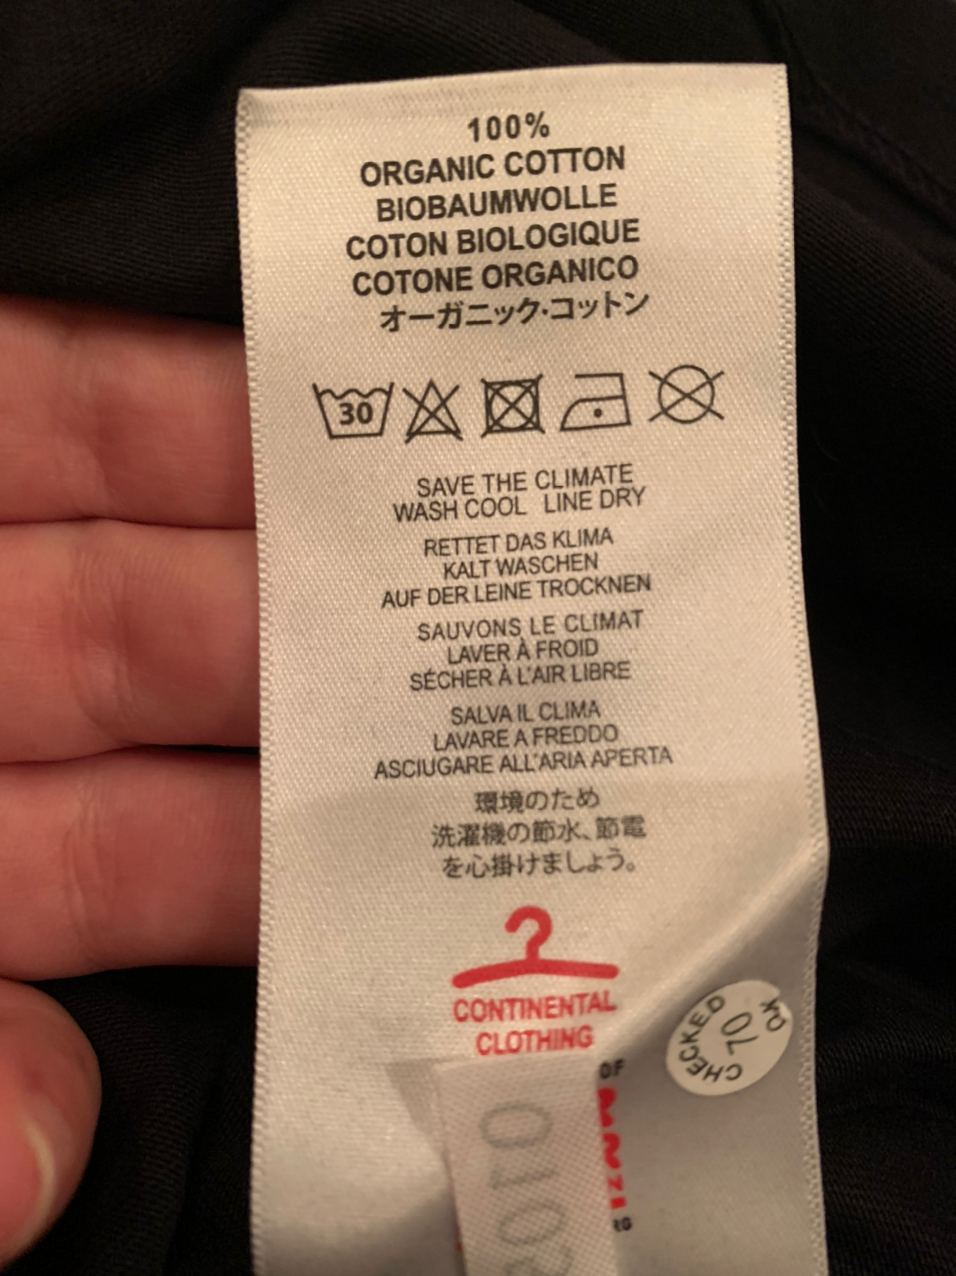do_not_bleach: (400, 376, 470, 447)
do_not_dry_clean: (645, 356, 733, 430)
do_not_tumble_drying: (476, 368, 549, 442)
ironing_at_low_temp: (557, 365, 634, 433)
wash_at_or_below_30: (310, 376, 399, 447)
